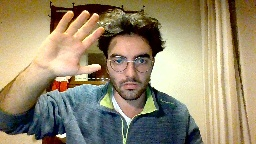Mano_aperta: (30, 5, 106, 79)
